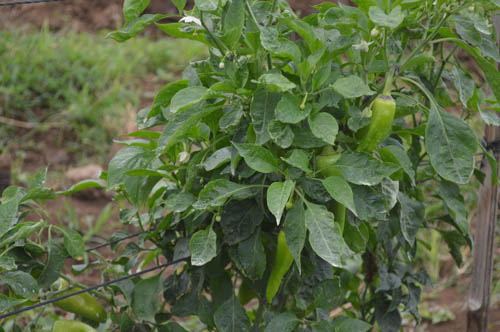ChiliPepper: (265, 232, 293, 307), (355, 97, 390, 155), (319, 154, 345, 228), (55, 289, 103, 320)
